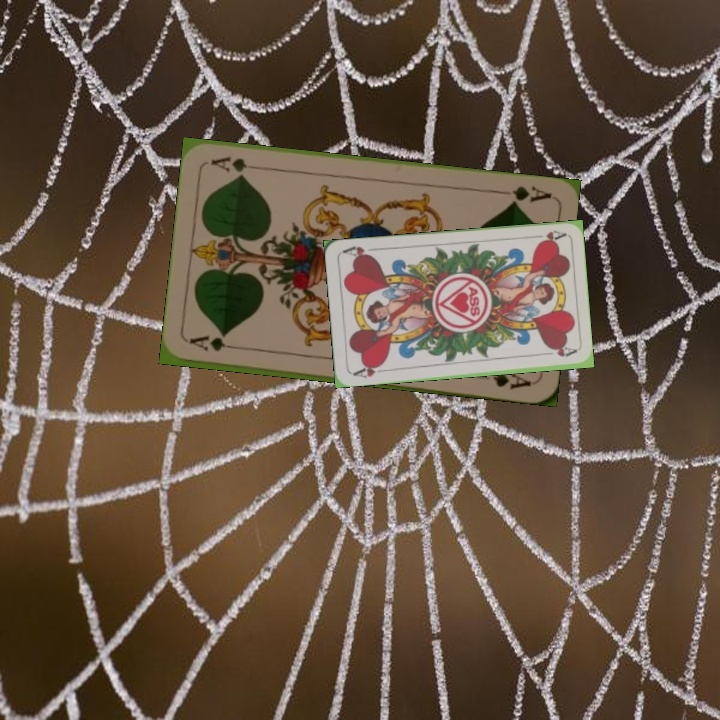GA: (494, 181, 553, 207), (186, 332, 245, 354)
HA: (349, 360, 389, 380), (527, 226, 567, 246)
